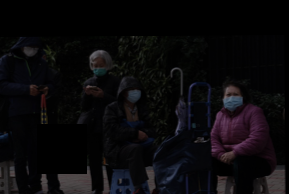with_mask: (220, 88, 244, 113), (125, 85, 142, 103), (21, 42, 40, 57), (91, 60, 107, 76)
